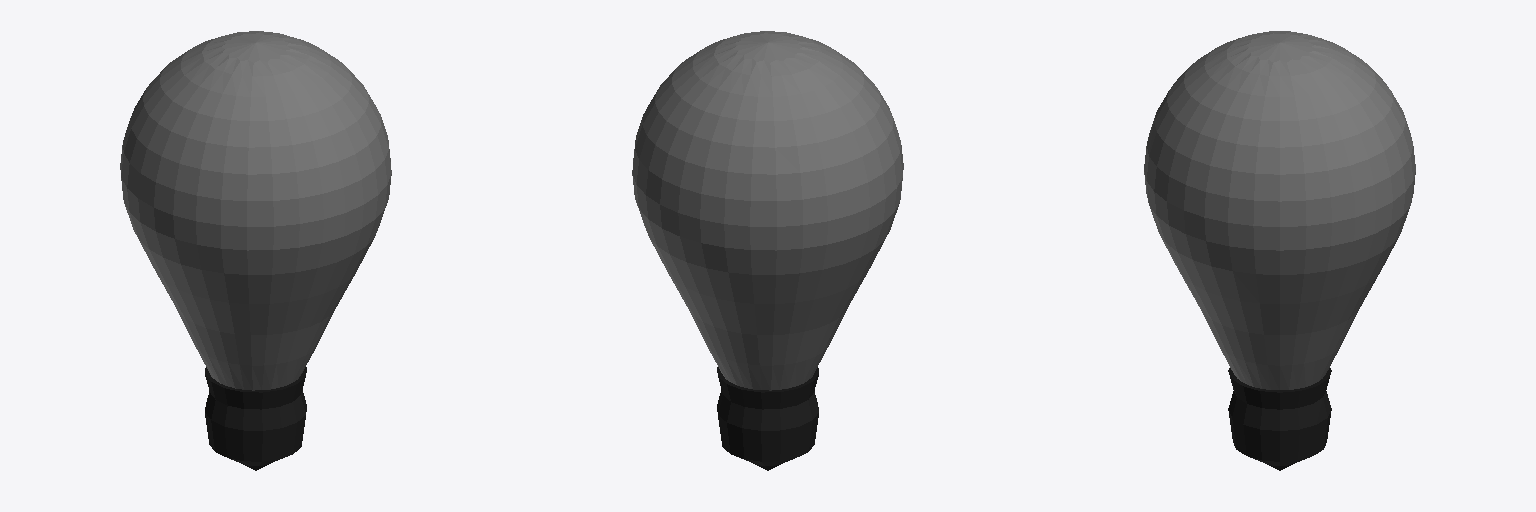
File: bulb.obj
3 renders of one model, left to right at view 1: azimuth 30°, elevation 25°; view 2: azimuth 150°, elevation 25°; view 3: azimuth 270°, elevation 25°, orthographic.
Visible parts, largest first — view 1: Sphere001, Cylinder00; view 2: Sphere001, Cylinder00; view 3: Sphere001, Cylinder00.
Boxes of the visible parts, <box> form: Sphere001: <box>120,31,391,390</box>; Cylinder00: <box>205,367,306,470</box>; Sphere001: <box>632,31,903,390</box>; Cylinder00: <box>717,367,818,470</box>; Sphere001: <box>1144,31,1415,389</box>; Cylinder00: <box>1228,368,1331,470</box>.
Bounding box in the file's own units: 5.8 × 10.04 × 5.8.